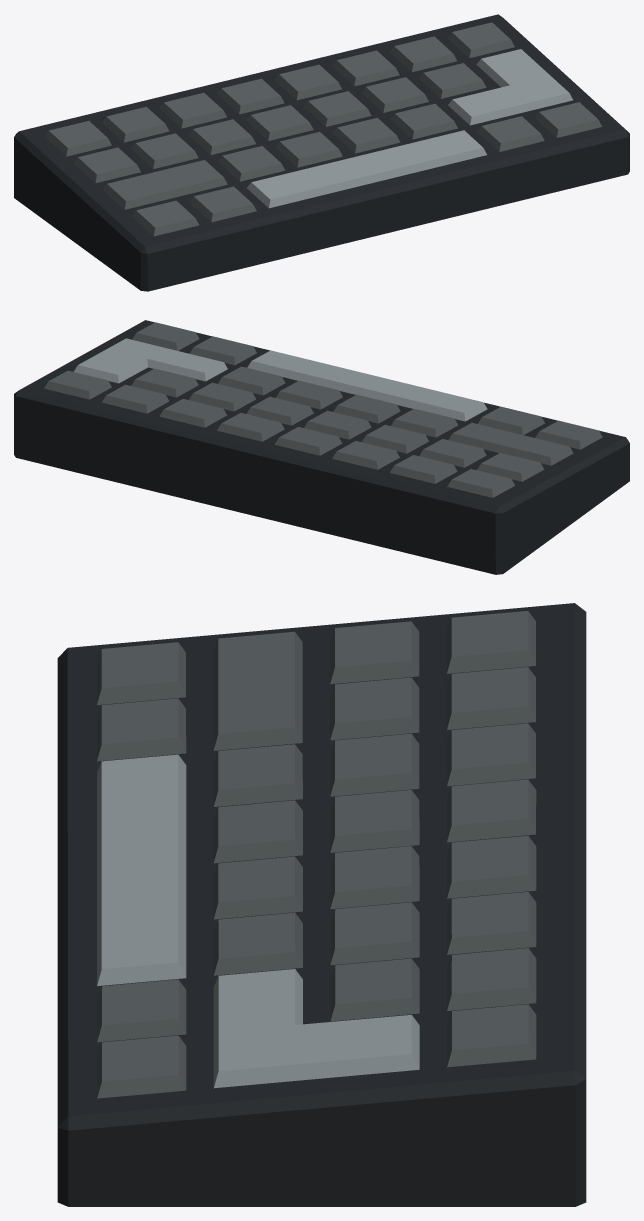
File: Keyboard_01.glb
3 renders of one model, top to bottom at view 1: azimuth 30°, elevation 25°; view 2: azimuth 150°, elevation 25°; view 3: azimuth 270°, elevation 25°, orthographic. The views are drawn at different scales.
Visible parts, largest first — view 1: Keyboard_01; view 2: Keyboard_01; view 3: Keyboard_01.
Boxes of the visible parts, <box> form: Keyboard_01: <box>14,14,629,291</box>; Keyboard_01: <box>14,320,629,574</box>; Keyboard_01: <box>57,603,586,1206</box>.
Size of the model in its own units: 0.5058 by 0.0697 by 0.2366.
1 material, 1 textured.
